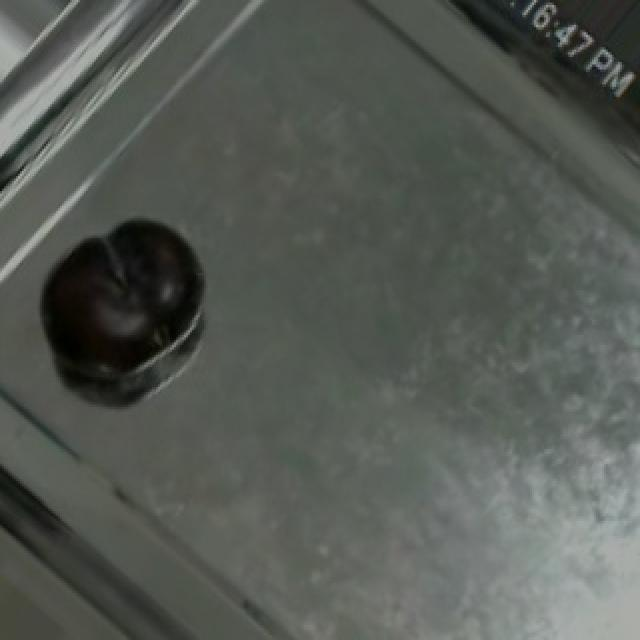Fruit: (22, 206, 196, 399)
